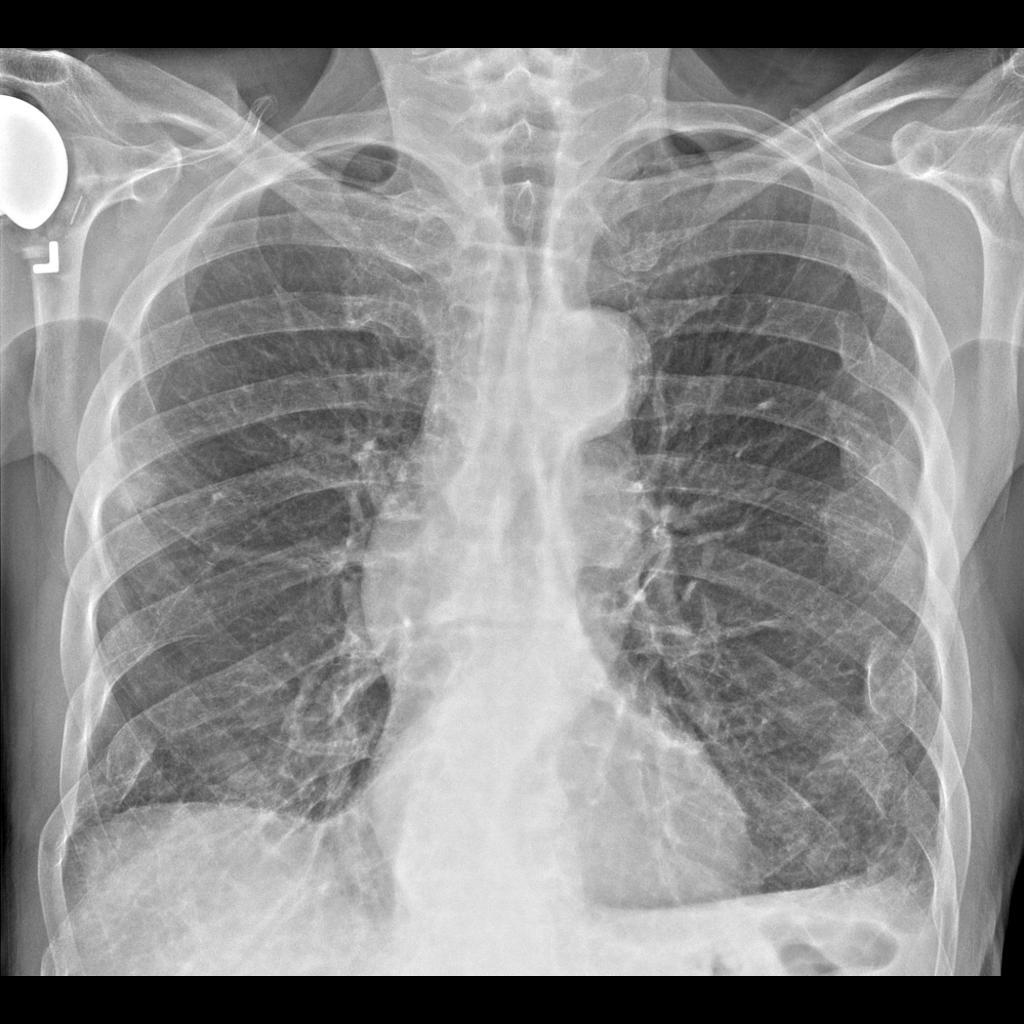Nodule: (114, 449, 164, 519)
